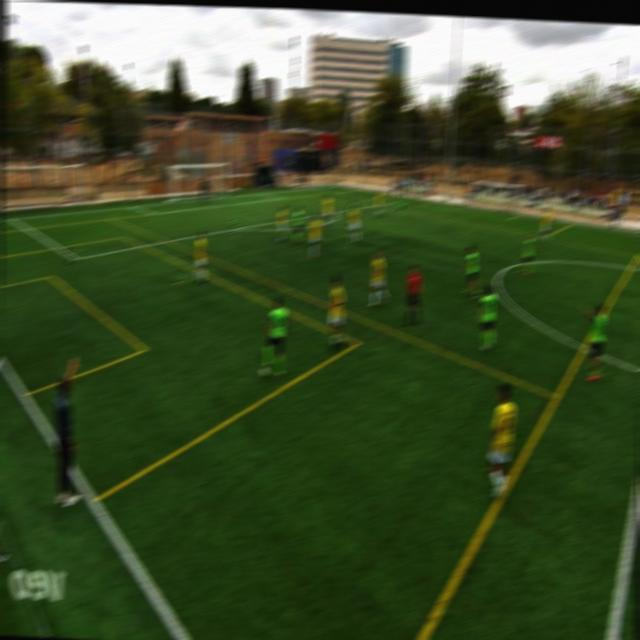bigarea_bottom_inner: (64, 246, 84, 270)
bigarea_bottom_outter: (4, 212, 16, 226)
bigarea_top_inner: (392, 198, 399, 207)
bigarea_top_outter: (306, 184, 313, 192)
bottom_arc_area_intersection: (226, 219, 241, 236)
corner: (330, 183, 339, 188)
smallarea_bottom_inner: (148, 207, 158, 220)
smallarea_bottom_outter: (126, 200, 138, 213)
smallarea_top_inner: (280, 194, 286, 202)
smallarea_top_outter: (254, 189, 263, 199)
top_arc_area_intersection: (331, 203, 344, 219)
